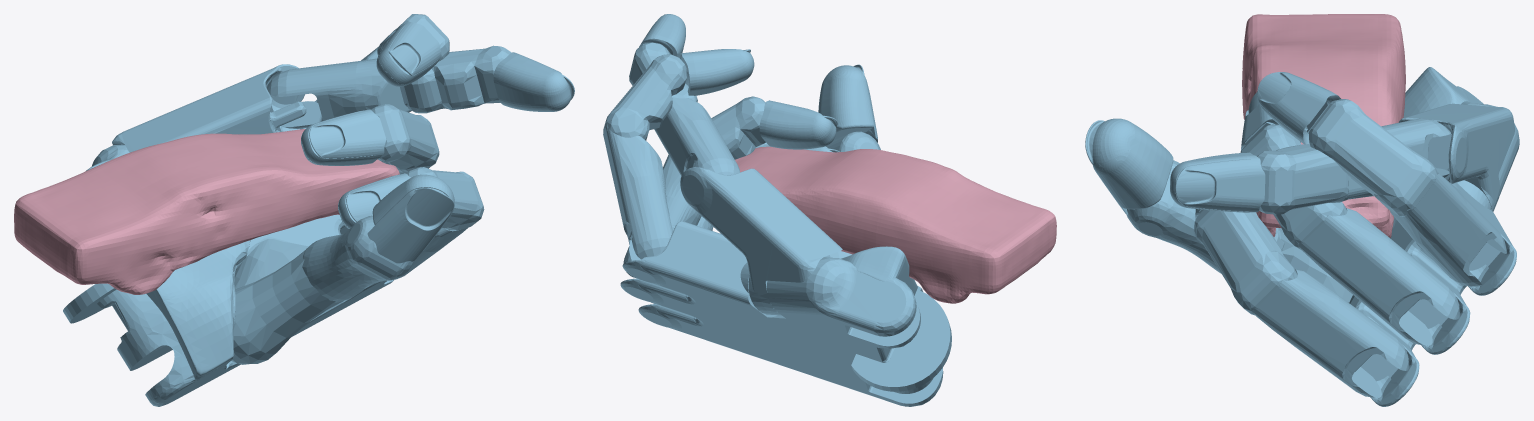
3 renders of one model, left to right at view 1: azimuth 30°, elevation 25°; view 2: azimuth 150°, elevation 25°; view 3: azimuth 270°, elevation 25°, orthographic. The views are drawn at different scales.
Parts seen in each view (by area): view 1: hand, world; view 2: hand, world; view 3: hand, world.
Part boxes in pixels (box(x1,y1,x2,y2)): hand: box(63, 14, 574, 406); world: box(14, 129, 399, 294); hand: box(603, 14, 951, 406); world: box(735, 146, 1056, 303); hand: box(1085, 67, 1519, 406); world: box(1242, 14, 1405, 238).
Size of the model in its own units: 0.1791 by 0.118 by 0.1286.
